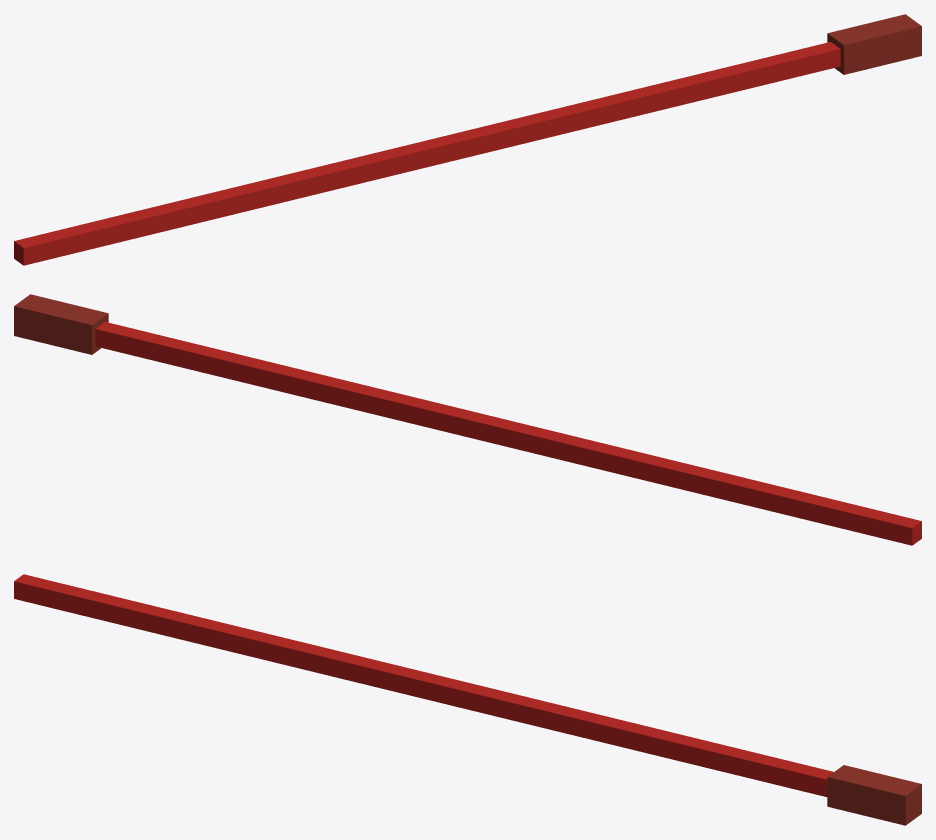
The model's file is Cable_E_1_3.fbx.
3 renders of one model, top to bottom at view 1: azimuth 30°, elevation 25°; view 2: azimuth 150°, elevation 25°; view 3: azimuth 330°, elevation 25°, orthographic.
Parts seen in each view (by area): view 1: Cable_E_1_3; view 2: Cable_E_1_3; view 3: Cable_E_1_3.
Part boxes in pixels (x1,y1,x2,y2): Cable_E_1_3: (14,14,921,265); Cable_E_1_3: (14,294,921,545); Cable_E_1_3: (14,574,921,825).
Size of the model in its own units: 309 by 9.83 by 9.83.
